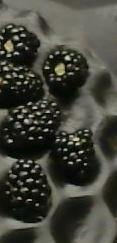berry: (0, 99, 60, 156), (2, 159, 50, 222), (51, 128, 99, 185), (42, 46, 88, 95), (0, 61, 43, 107), (0, 23, 39, 65)
